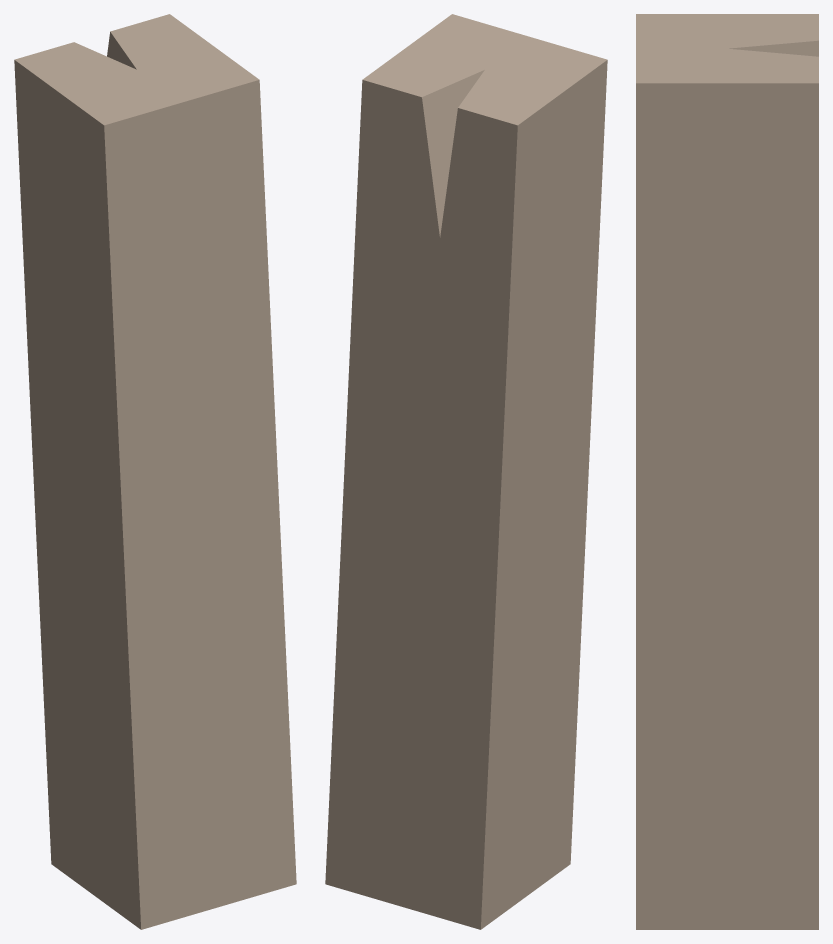
The model's file is Prop_Fence_Post_2.glb.
3 renders of one model, left to right at view 1: azimuth 30°, elevation 25°; view 2: azimuth 150°, elevation 25°; view 3: azimuth 270°, elevation 25°, orthographic.
Parts seen in each view (by area): view 1: object1; view 2: object1; view 3: object1.
Part boxes in pixels (x1=…): object1: x1=14, y1=14, x2=296, y2=929; object1: x1=325, y1=14, x2=607, y2=929; object1: x1=636, y1=14, x2=818, y2=929.
Bounding box in the file's own units: 0.1855 × 0.7563 × 0.15.
